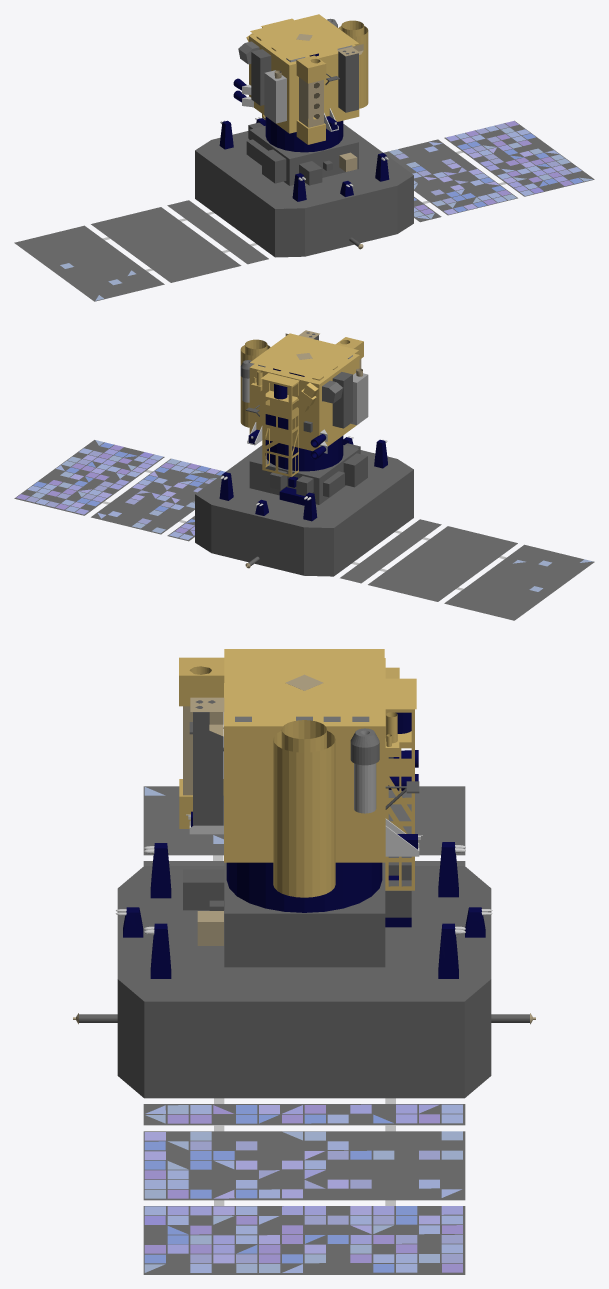
Rendered from soho.glb.
3 renders of one model, top to bottom at view 1: azimuth 30°, elevation 25°; view 2: azimuth 150°, elevation 25°; view 3: azimuth 270°, elevation 25°, orthographic. The views are drawn at different scales.
Parts seen in each view (by area): view 1: Fake; view 2: Fake; view 3: Fake.
Boxes of the visible parts, x1=… form: Fake: x1=14, y1=14, x2=594, y2=301; Fake: x1=14, y1=330, x2=594, y2=620; Fake: x1=73, y1=649, x2=535, y2=1274.
Size of the model in its own units: 43.27 by 14.43 by 17.34.
